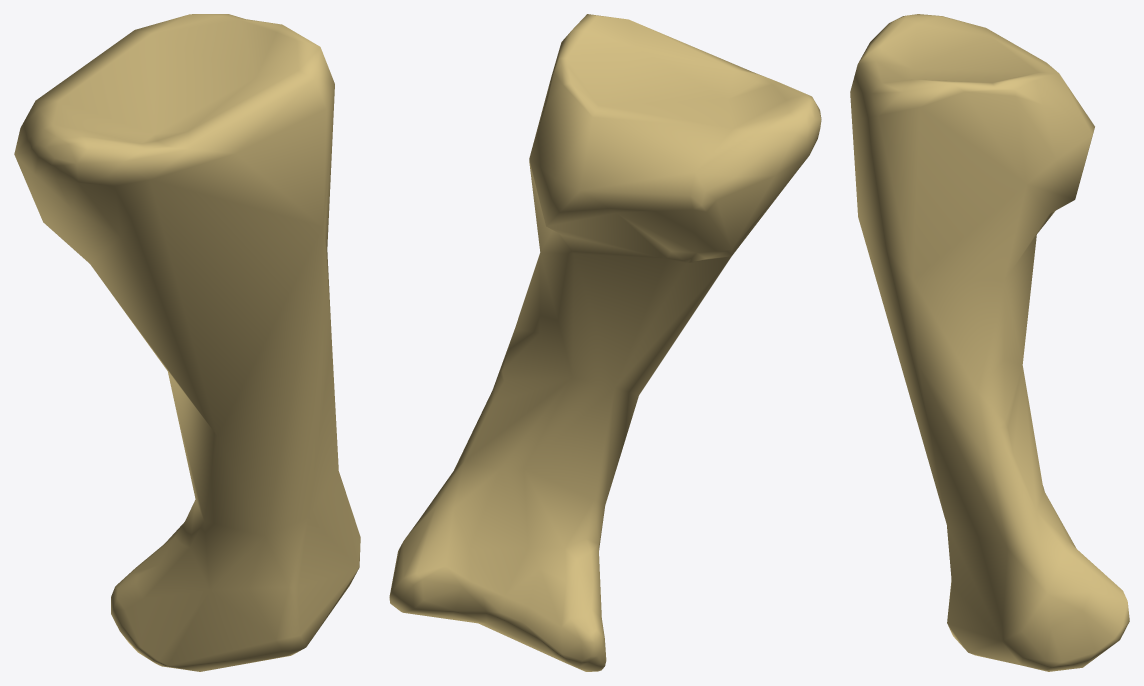
3 views of the same model, side by side, from view 1: azimuth 30°, elevation 25°; view 2: azimuth 150°, elevation 25°; view 3: azimuth 270°, elevation 25° (orthographic). The views are drawn at different scales.
Parts seen in each view (by area): view 1: 左侧第二趾近节趾骨; view 2: 左侧第二趾近节趾骨; view 3: 左侧第二趾近节趾骨.
Part boxes in pixels (<box>): 左侧第二趾近节趾骨: <box>14,14,360,671</box>; 左侧第二趾近节趾骨: <box>389,14,821,671</box>; 左侧第二趾近节趾骨: <box>850,14,1129,671</box>.
Size of the model in its own units: 0.0263 by 0.0433 by 0.0191.
